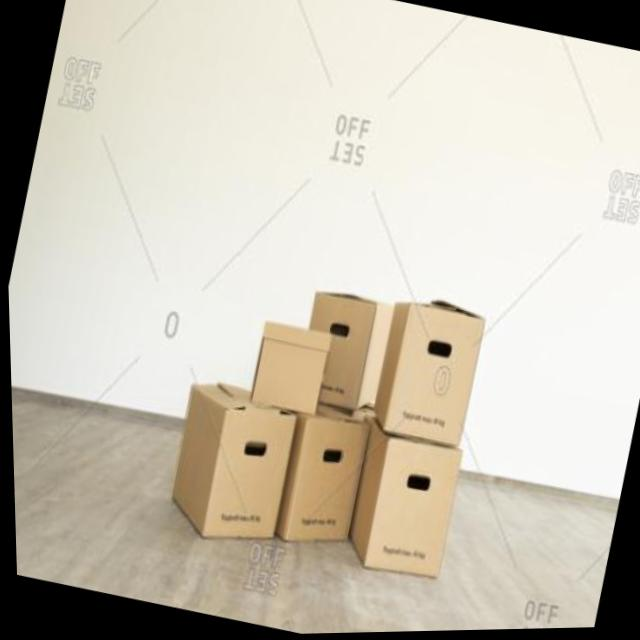box: (154, 378, 300, 555), (338, 425, 471, 586), (371, 282, 495, 452), (270, 400, 377, 558), (284, 281, 396, 425), (238, 307, 337, 427)
